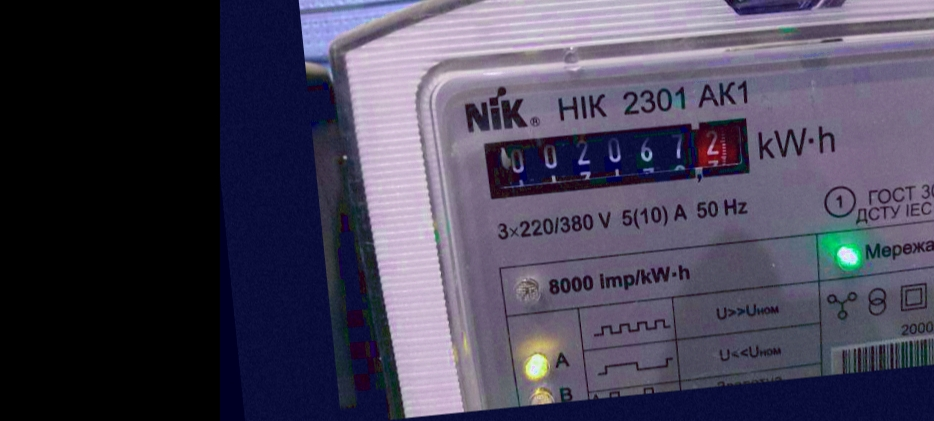0: (603, 133, 624, 163), (507, 145, 527, 176), (540, 140, 560, 170)
2: (573, 136, 593, 167), (702, 126, 722, 157)
6: (636, 133, 657, 163)
7: (669, 130, 688, 161)
screen: (469, 102, 768, 213)
